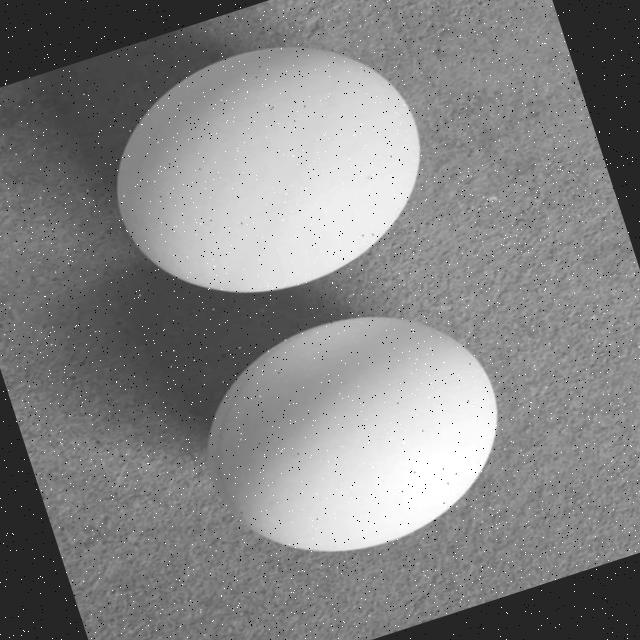ping-pong-ball: (87, 3, 454, 324), (180, 282, 529, 582)
